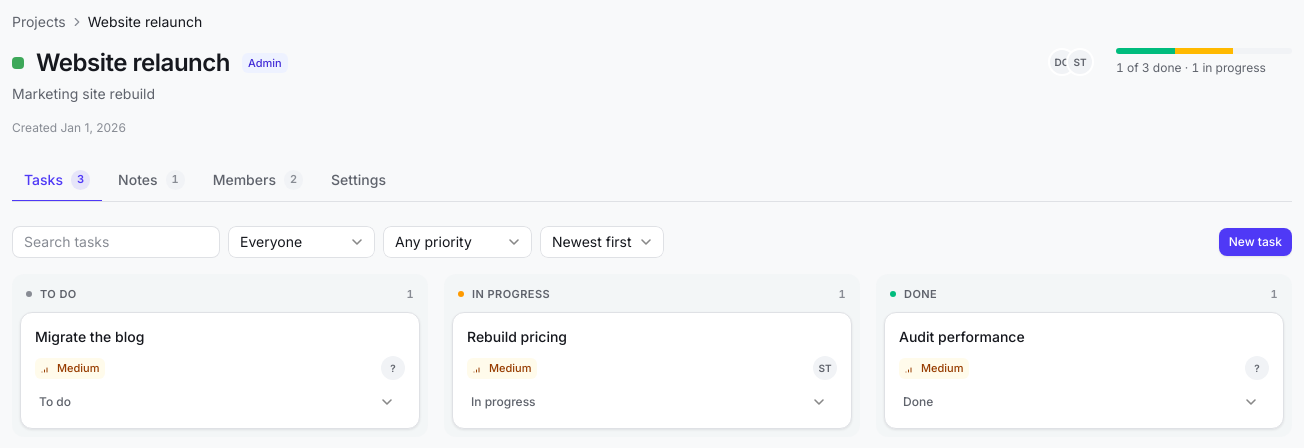
it: ProjectDetail › narrows the board by search text
Check: the button "Migrate the blog" is shown, box [35,327,405,346]
Type "pricing" into the search field labelled "Search tasks" at (116, 242), box [12,226,220,258]
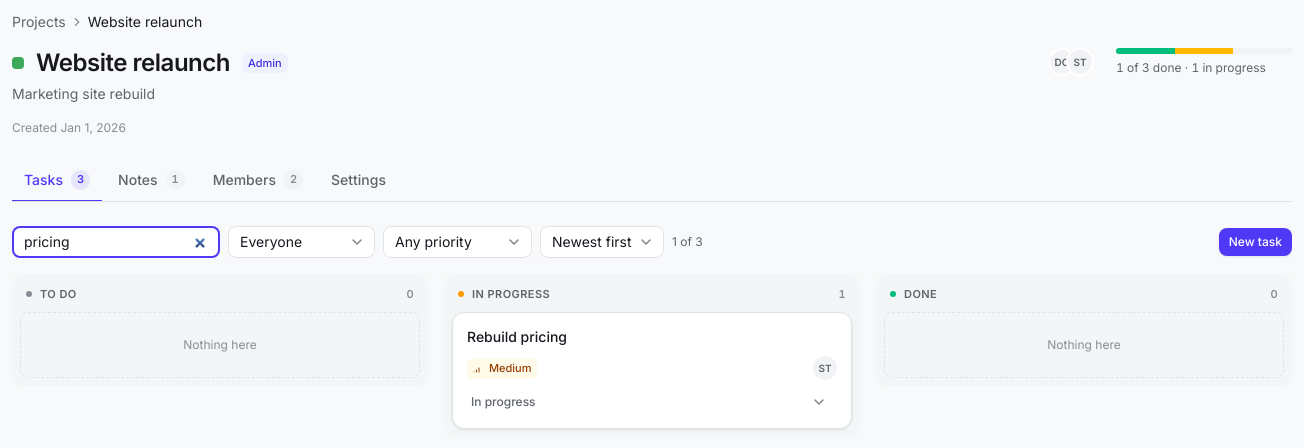
Check: the button "Rebuild pricing" is shown, box [467,327,837,346]
Check: the button "Migrate the blog" is gone
Check: the message reads "1 of 3", box [672,234,703,250]
